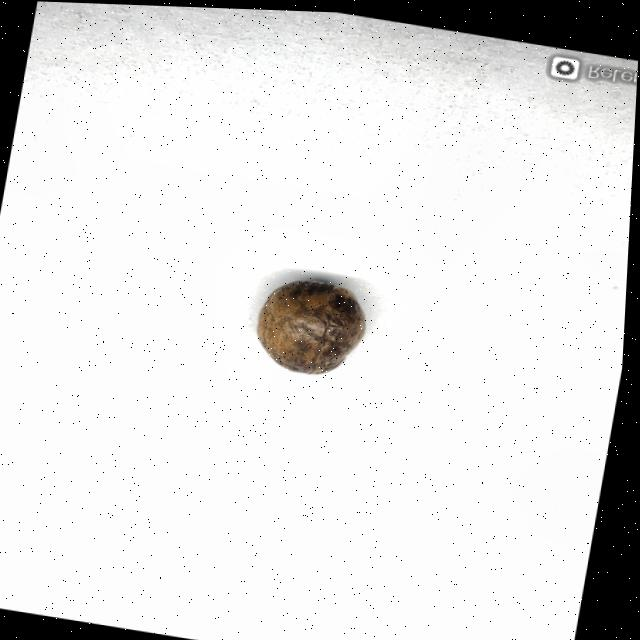Insect damage: (252, 269, 375, 380)
